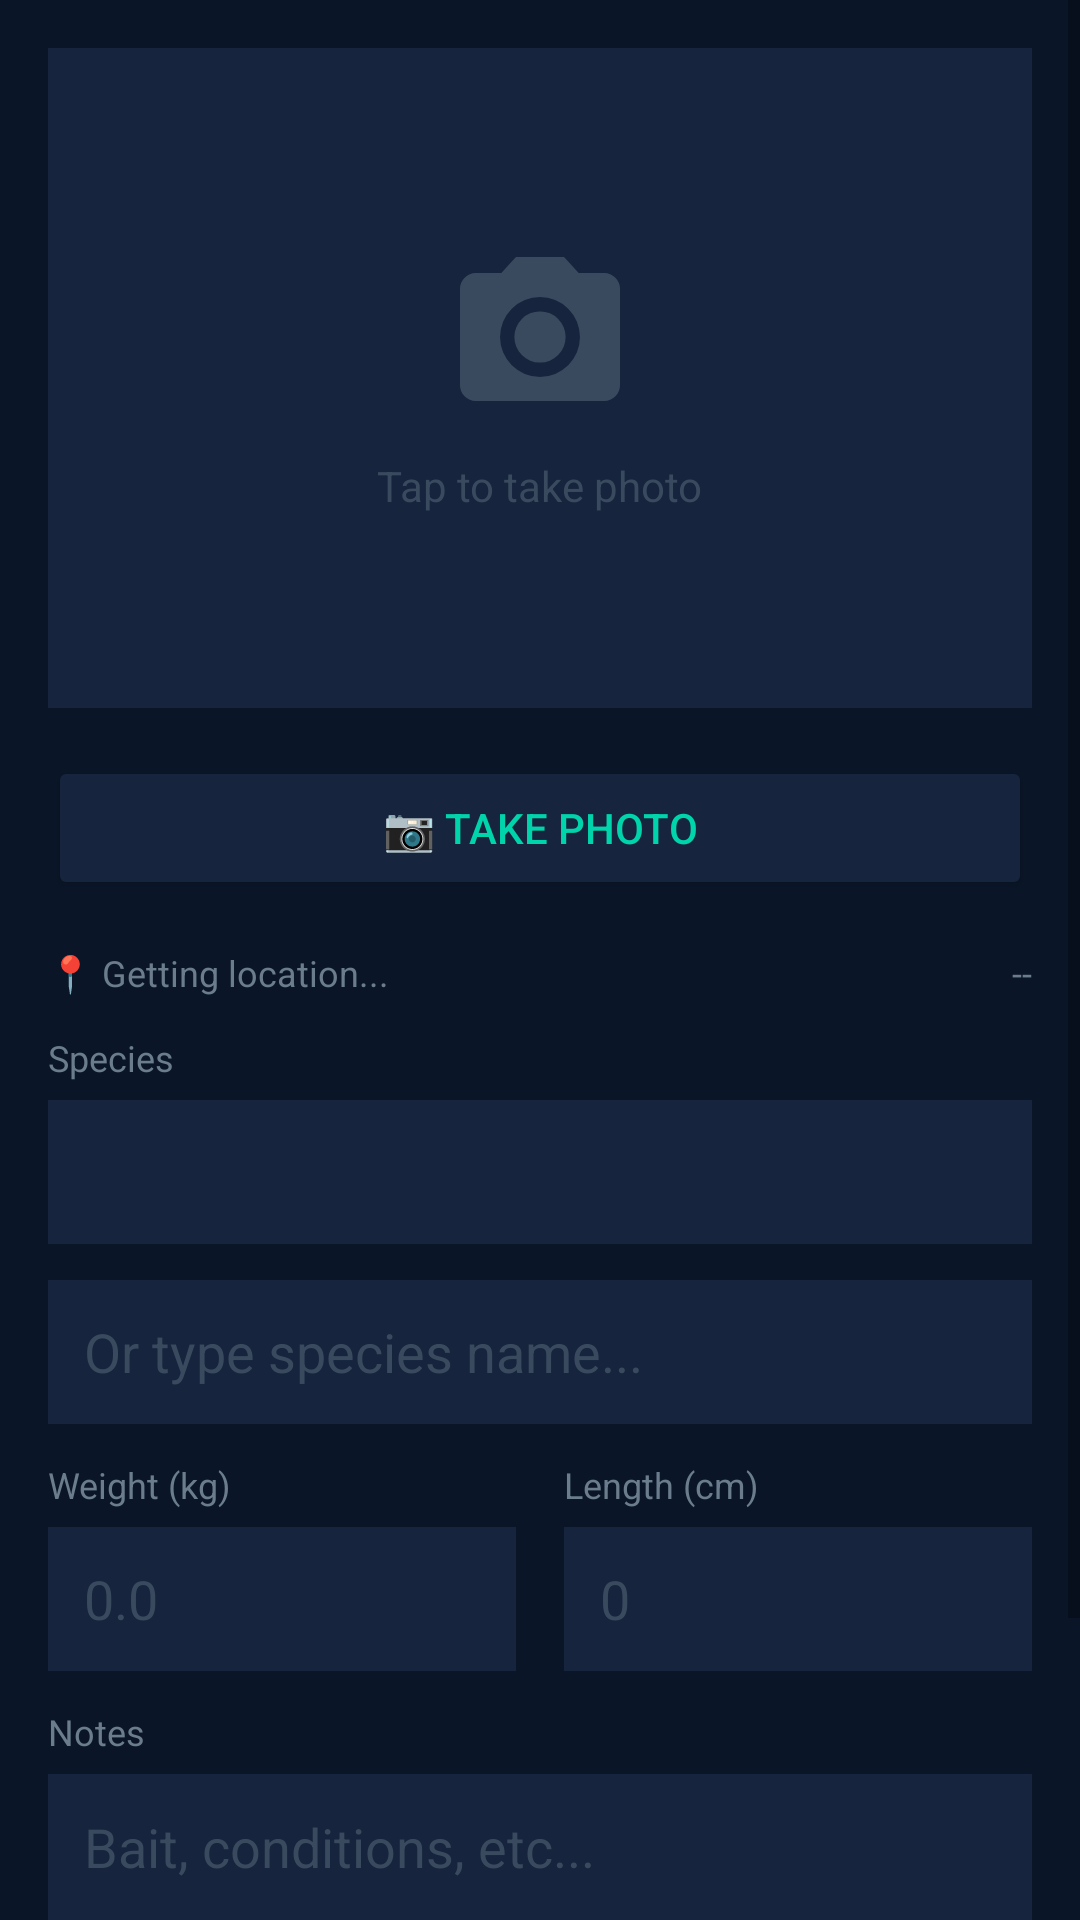

Where icons sit on this 1080*1920 app screen, as (x1, y1, x2, y2):
camera: (460, 257, 620, 401)
